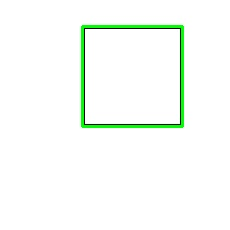line_segment: (81, 25, 184, 128)
